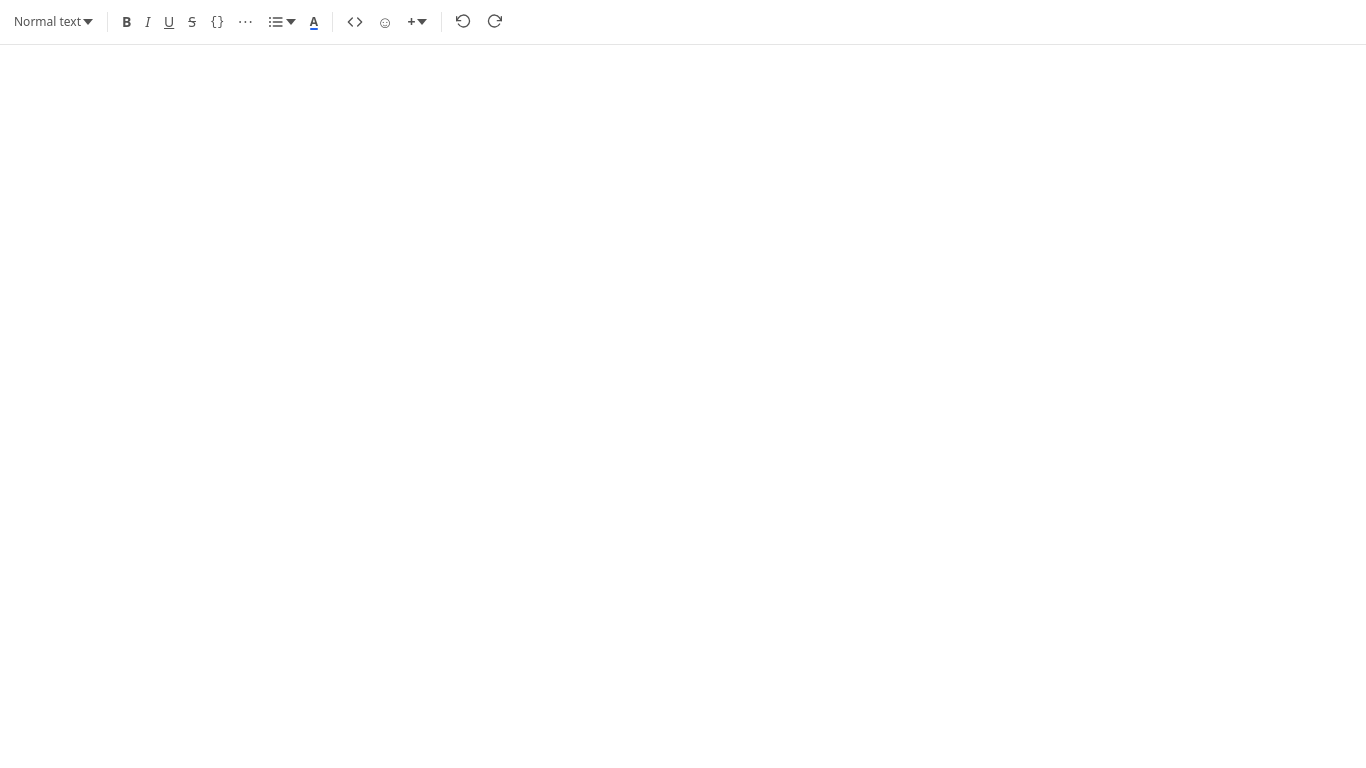
Scenario: EditorToolbar › InsertMenu opens on mousedown and shows Table item
The image size is (1366, 768).
Press the mouse on the button named "Insert elements" at {"x": 417, "y": 22}, box 401,6 -> 433,38
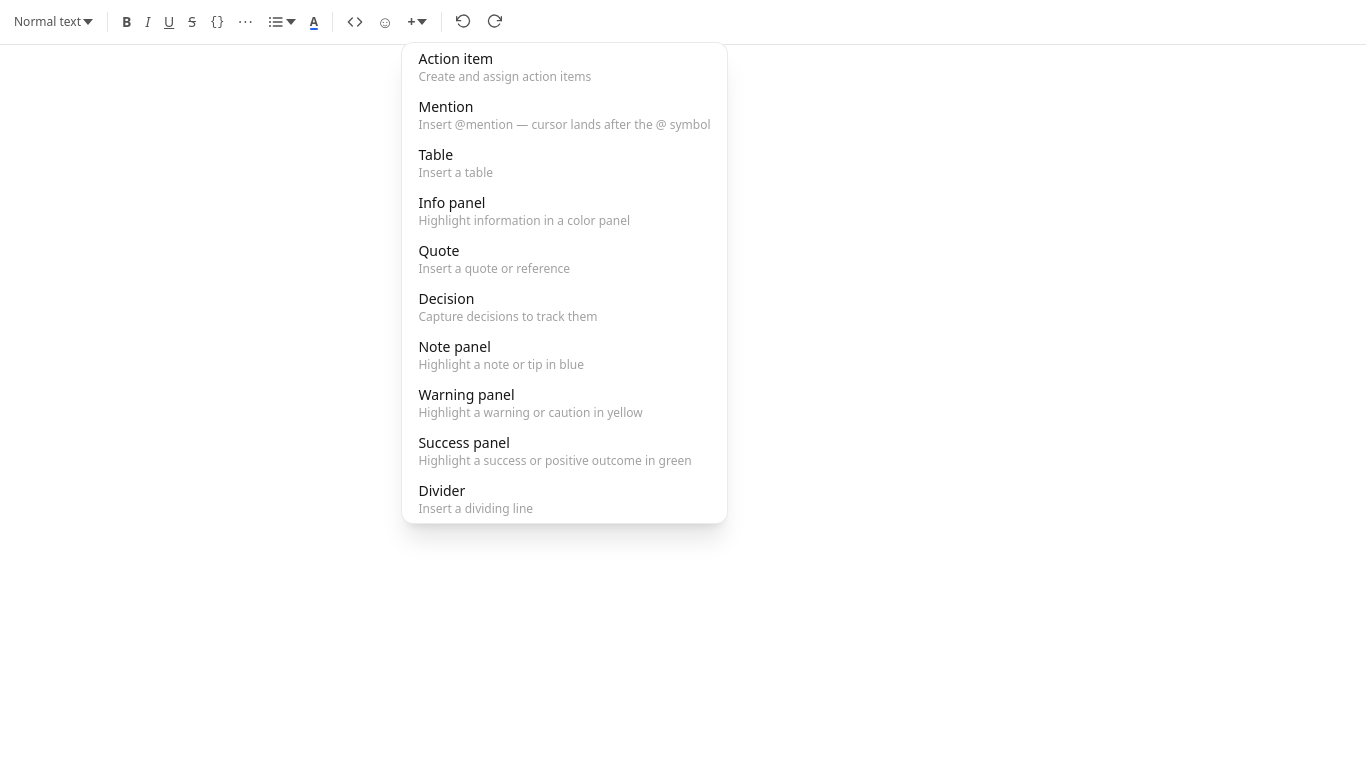
Result: the text "Table" is shown at 418,145 -> 453,164
